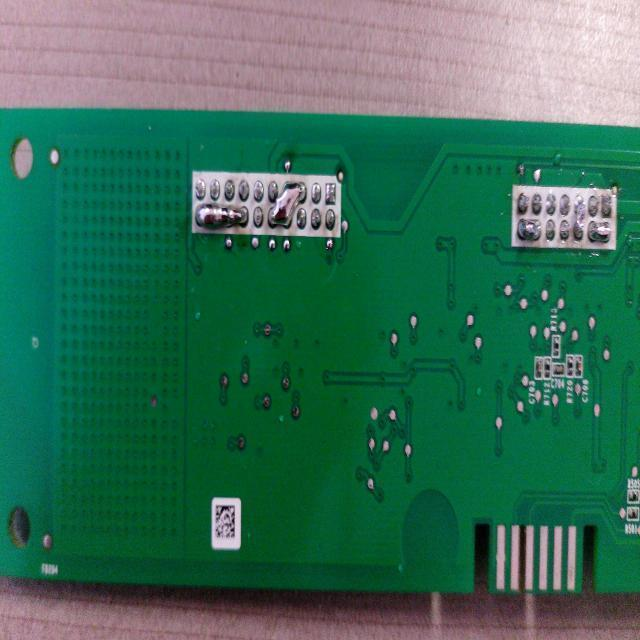Soldering shorted: (266, 178, 308, 236), (193, 202, 250, 234), (512, 216, 544, 242), (572, 192, 588, 242), (588, 220, 612, 253)
